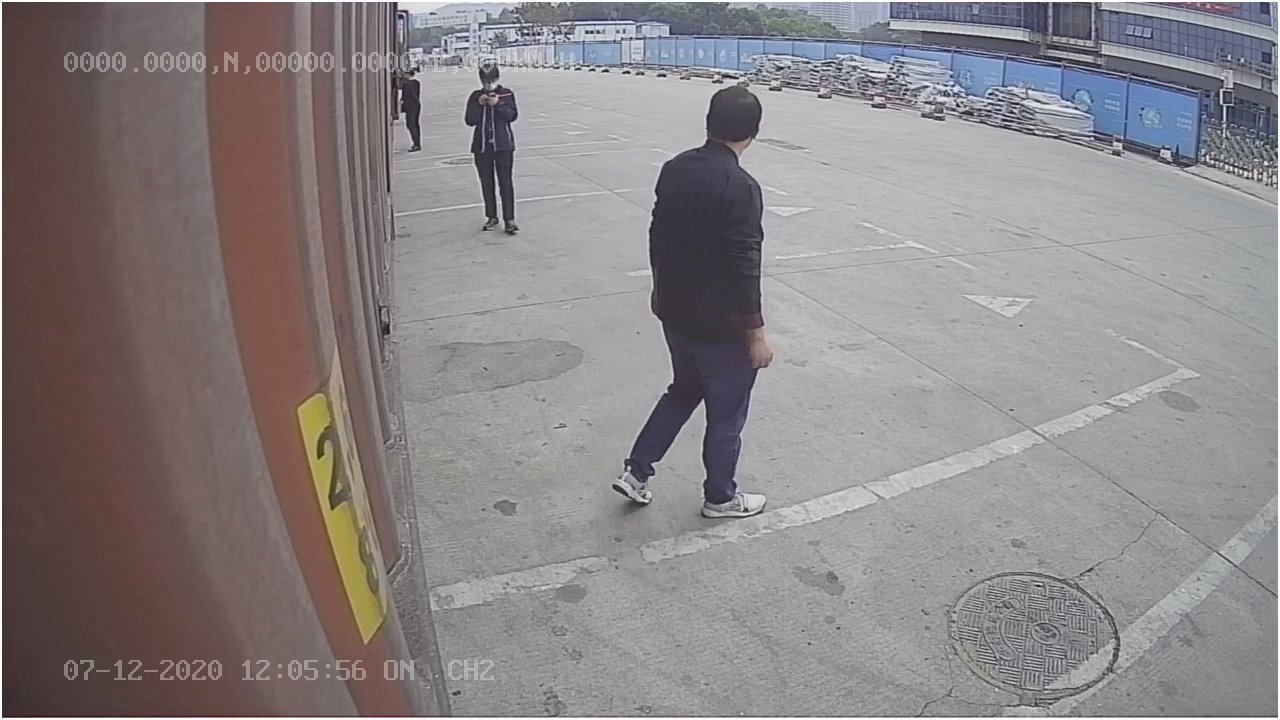person: (611, 84, 775, 514)
